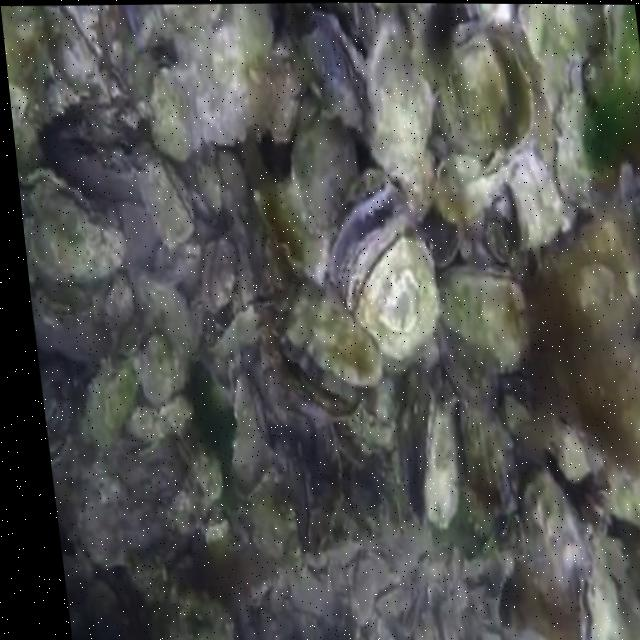Oyster-Closed: (549, 56, 614, 207), (291, 95, 358, 236), (299, 13, 369, 131), (442, 264, 524, 363), (580, 528, 624, 640), (120, 393, 194, 457), (424, 394, 458, 528), (28, 266, 107, 321), (39, 357, 74, 463), (265, 60, 306, 144), (424, 209, 464, 265), (610, 477, 640, 532), (604, 4, 629, 66), (188, 296, 205, 360), (117, 325, 143, 361), (202, 515, 230, 547), (428, 135, 446, 158)
Oyster-Indeterminate: (553, 207, 640, 355), (366, 11, 433, 176), (519, 469, 587, 606), (254, 172, 332, 283), (432, 152, 519, 222), (137, 158, 193, 246), (161, 586, 234, 640), (140, 331, 173, 402), (154, 236, 201, 284), (404, 148, 434, 219), (211, 240, 238, 307), (106, 272, 133, 330), (201, 241, 219, 309), (465, 3, 514, 26)
Oyster-Open: (327, 168, 441, 361), (436, 18, 549, 154), (23, 167, 129, 285), (284, 276, 382, 402), (45, 5, 100, 94), (617, 350, 640, 448)
